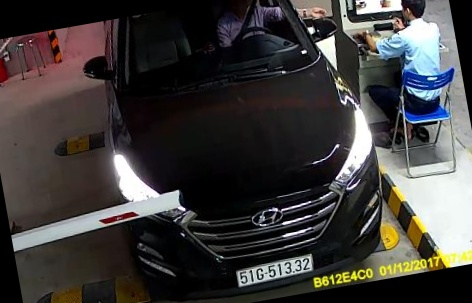plate: (232, 251, 314, 286)
